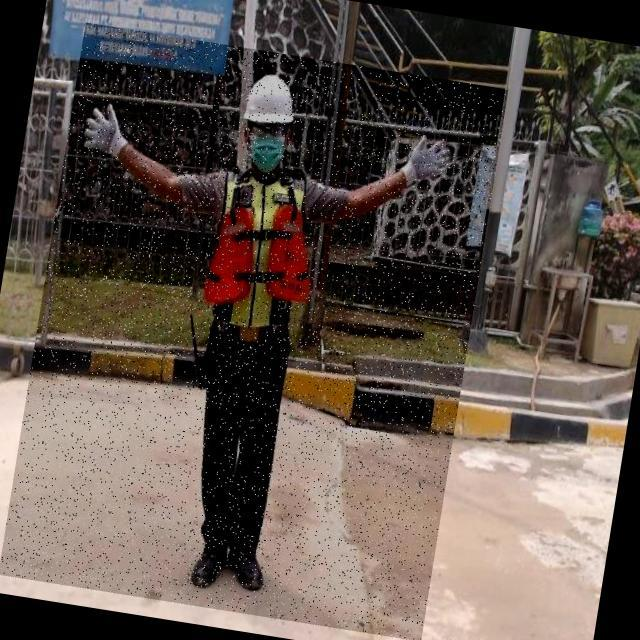Helmet: (242, 73, 300, 130)
Human: (0, 23, 508, 640)
Safety Boot: (188, 539, 229, 596), (221, 552, 271, 598)
Safety Vest: (199, 168, 328, 337)
